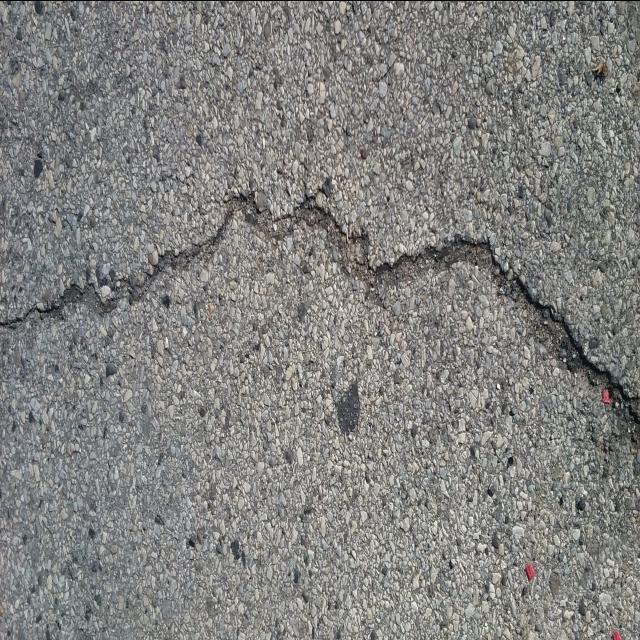Crack: (0, 180, 640, 484)
